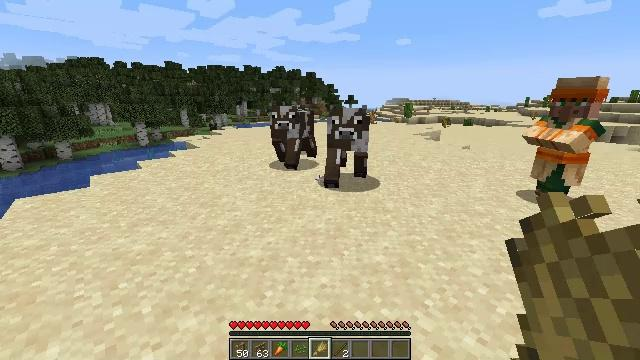cow: (323, 107, 370, 186), (269, 104, 318, 170)
